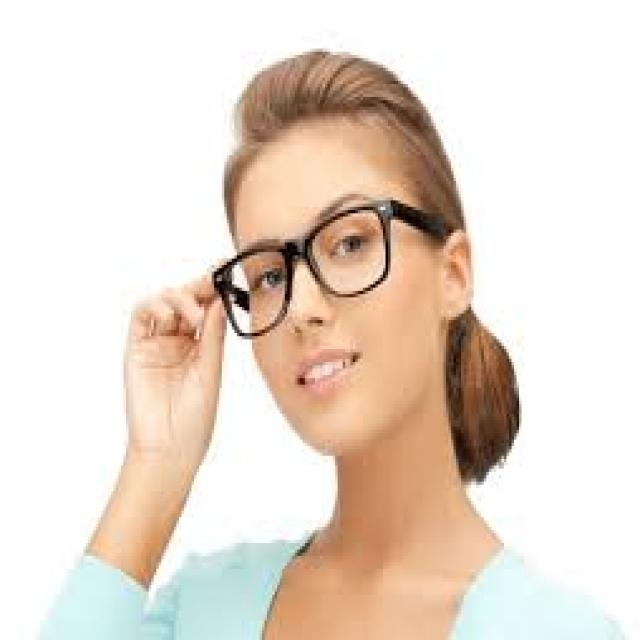Glasses: (206, 184, 407, 346)
